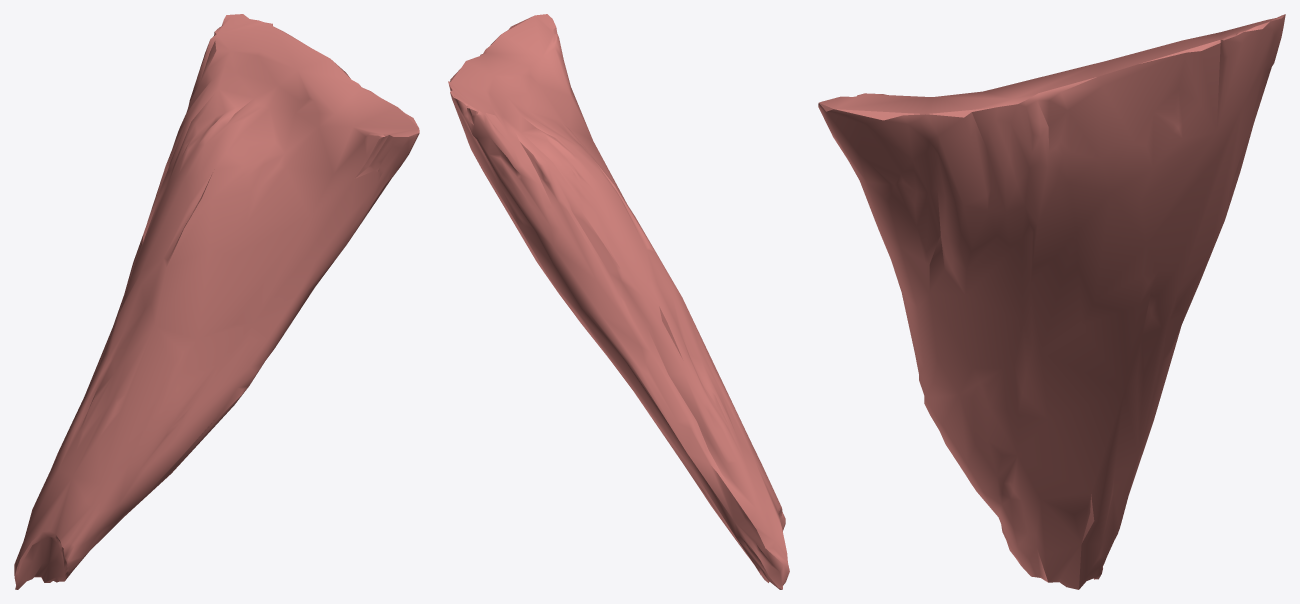
Rendered from fma32531_fj1567.glb.
3 renders of one model, left to right at view 1: azimuth 30°, elevation 25°; view 2: azimuth 150°, elevation 25°; view 3: azimuth 270°, elevation 25°, orthographic. The views are drawn at different scales.
Visible parts, largest first — view 1: FMA32531_FJ1567; view 2: FMA32531_FJ1567; view 3: FMA32531_FJ1567.
Part boxes in pixels (x1=…): FMA32531_FJ1567: x1=14, y1=14, x2=419, y2=589; FMA32531_FJ1567: x1=448, y1=14, x2=789, y2=589; FMA32531_FJ1567: x1=818, y1=14, x2=1285, y2=589.
Bounding box in the file's own units: 0.0362 × 0.048 × 0.0259.
